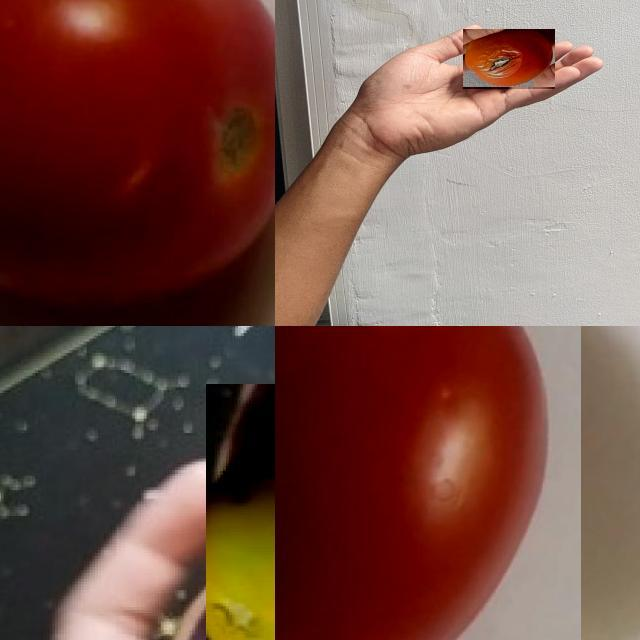Fresh Tomato: (275, 326, 581, 640), (0, 0, 275, 326)
Rotten Tomato: (206, 384, 275, 640), (463, 30, 555, 90)
